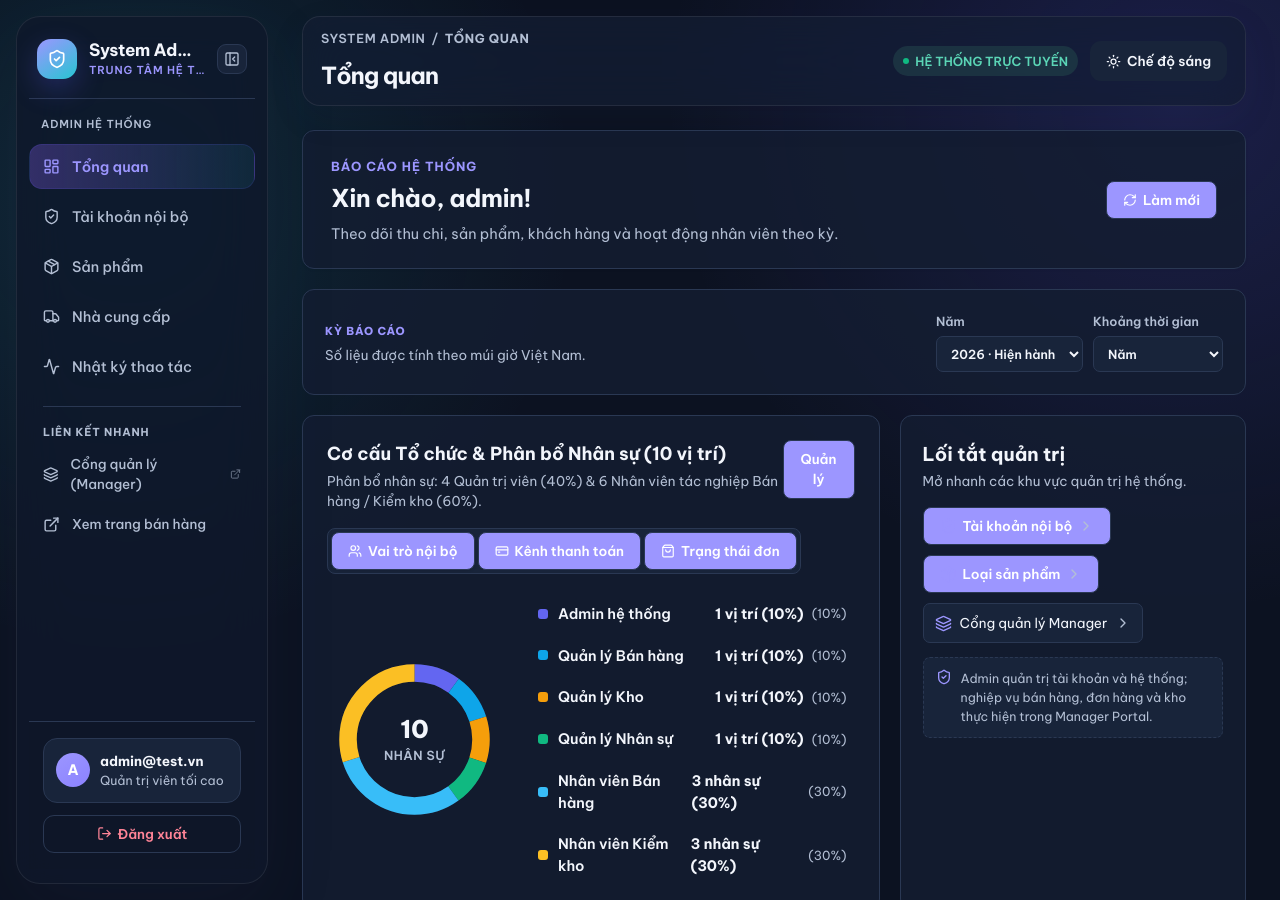
Scenario: dashboard shortcut opens its own function: Loại sản phẩm
The image size is (1280, 900).
Click the button "Loại sản phẩm" at (1011,574), box [922,555,1099,594]
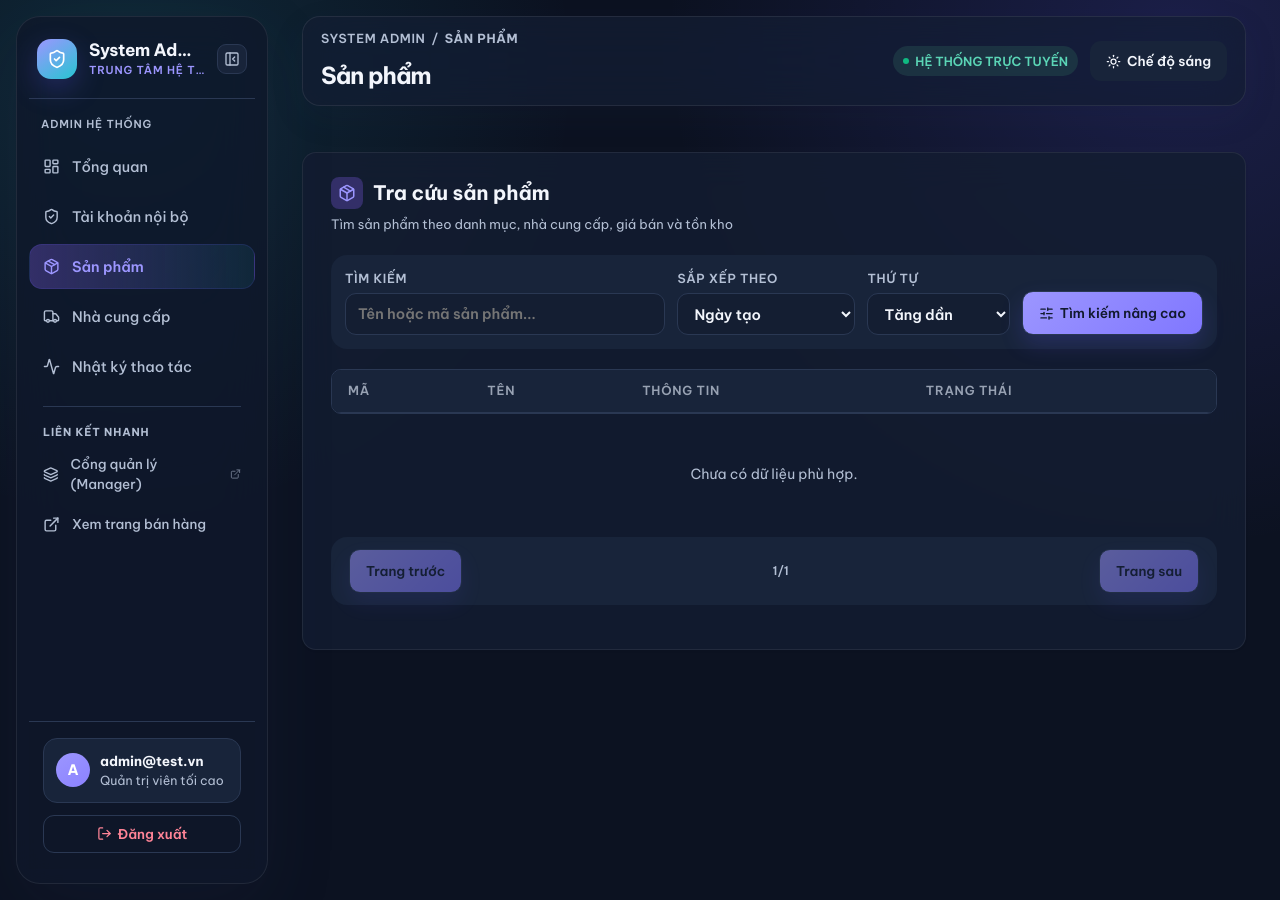
Expected: the text "Chưa có dữ liệu phù hợp." is shown, [690,465,858,483]
